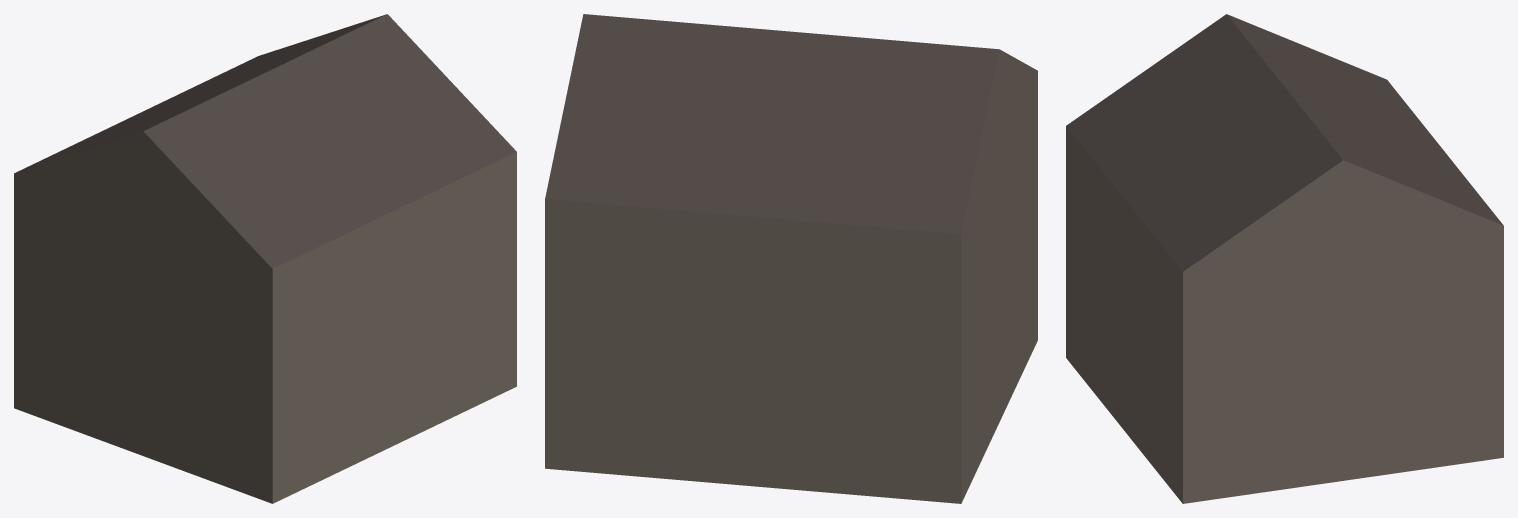
The picture shows the model from 3 angles, left to right: view 1: azimuth 30°, elevation 25°; view 2: azimuth 150°, elevation 25°; view 3: azimuth 270°, elevation 25°; orthographic projection. The views are drawn at different scales.
Parts seen in each view (by area): view 1: HP-w858807437; view 2: HP-w858807437; view 3: HP-w858807437.
Part boxes in pixels (box(x1,y1,x2,y2)): HP-w858807437: box(14, 14, 516, 503); HP-w858807437: box(545, 14, 1037, 503); HP-w858807437: box(1066, 14, 1503, 503).
Bounding box in the file's own units: 10.67 × 8.3 × 10.27.
